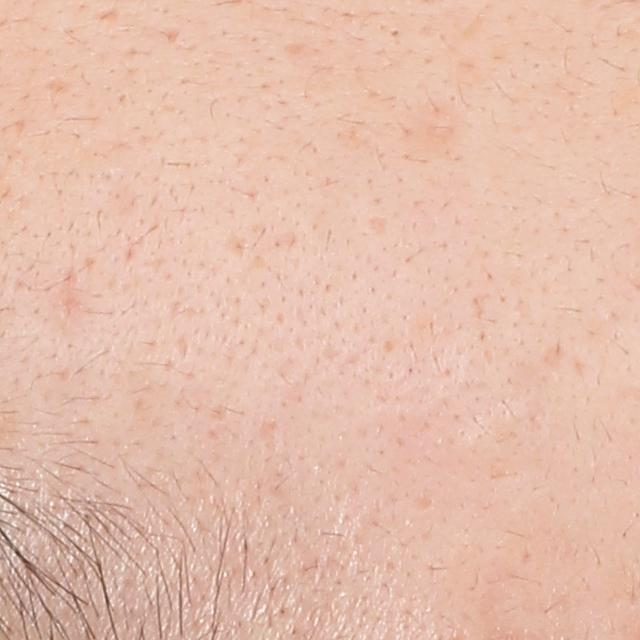atrophic_scar: (256, 418, 283, 458), (40, 74, 77, 98), (173, 331, 191, 364)
